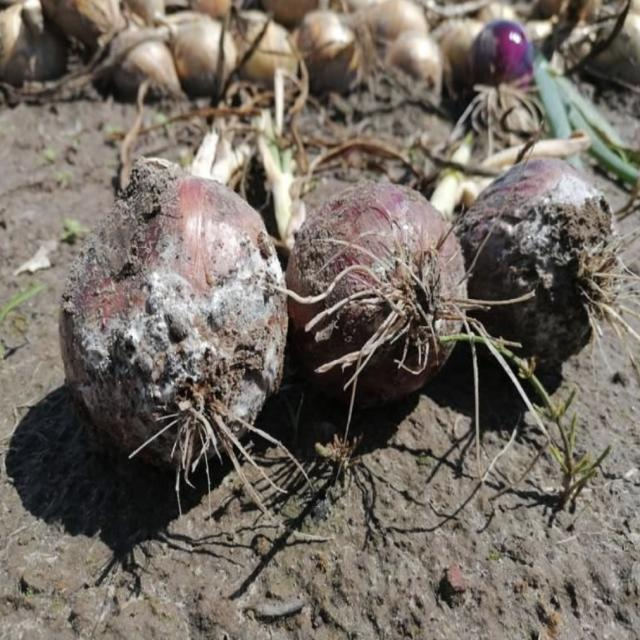rotten: (61, 160, 287, 449), (286, 182, 467, 404), (458, 160, 621, 363)
